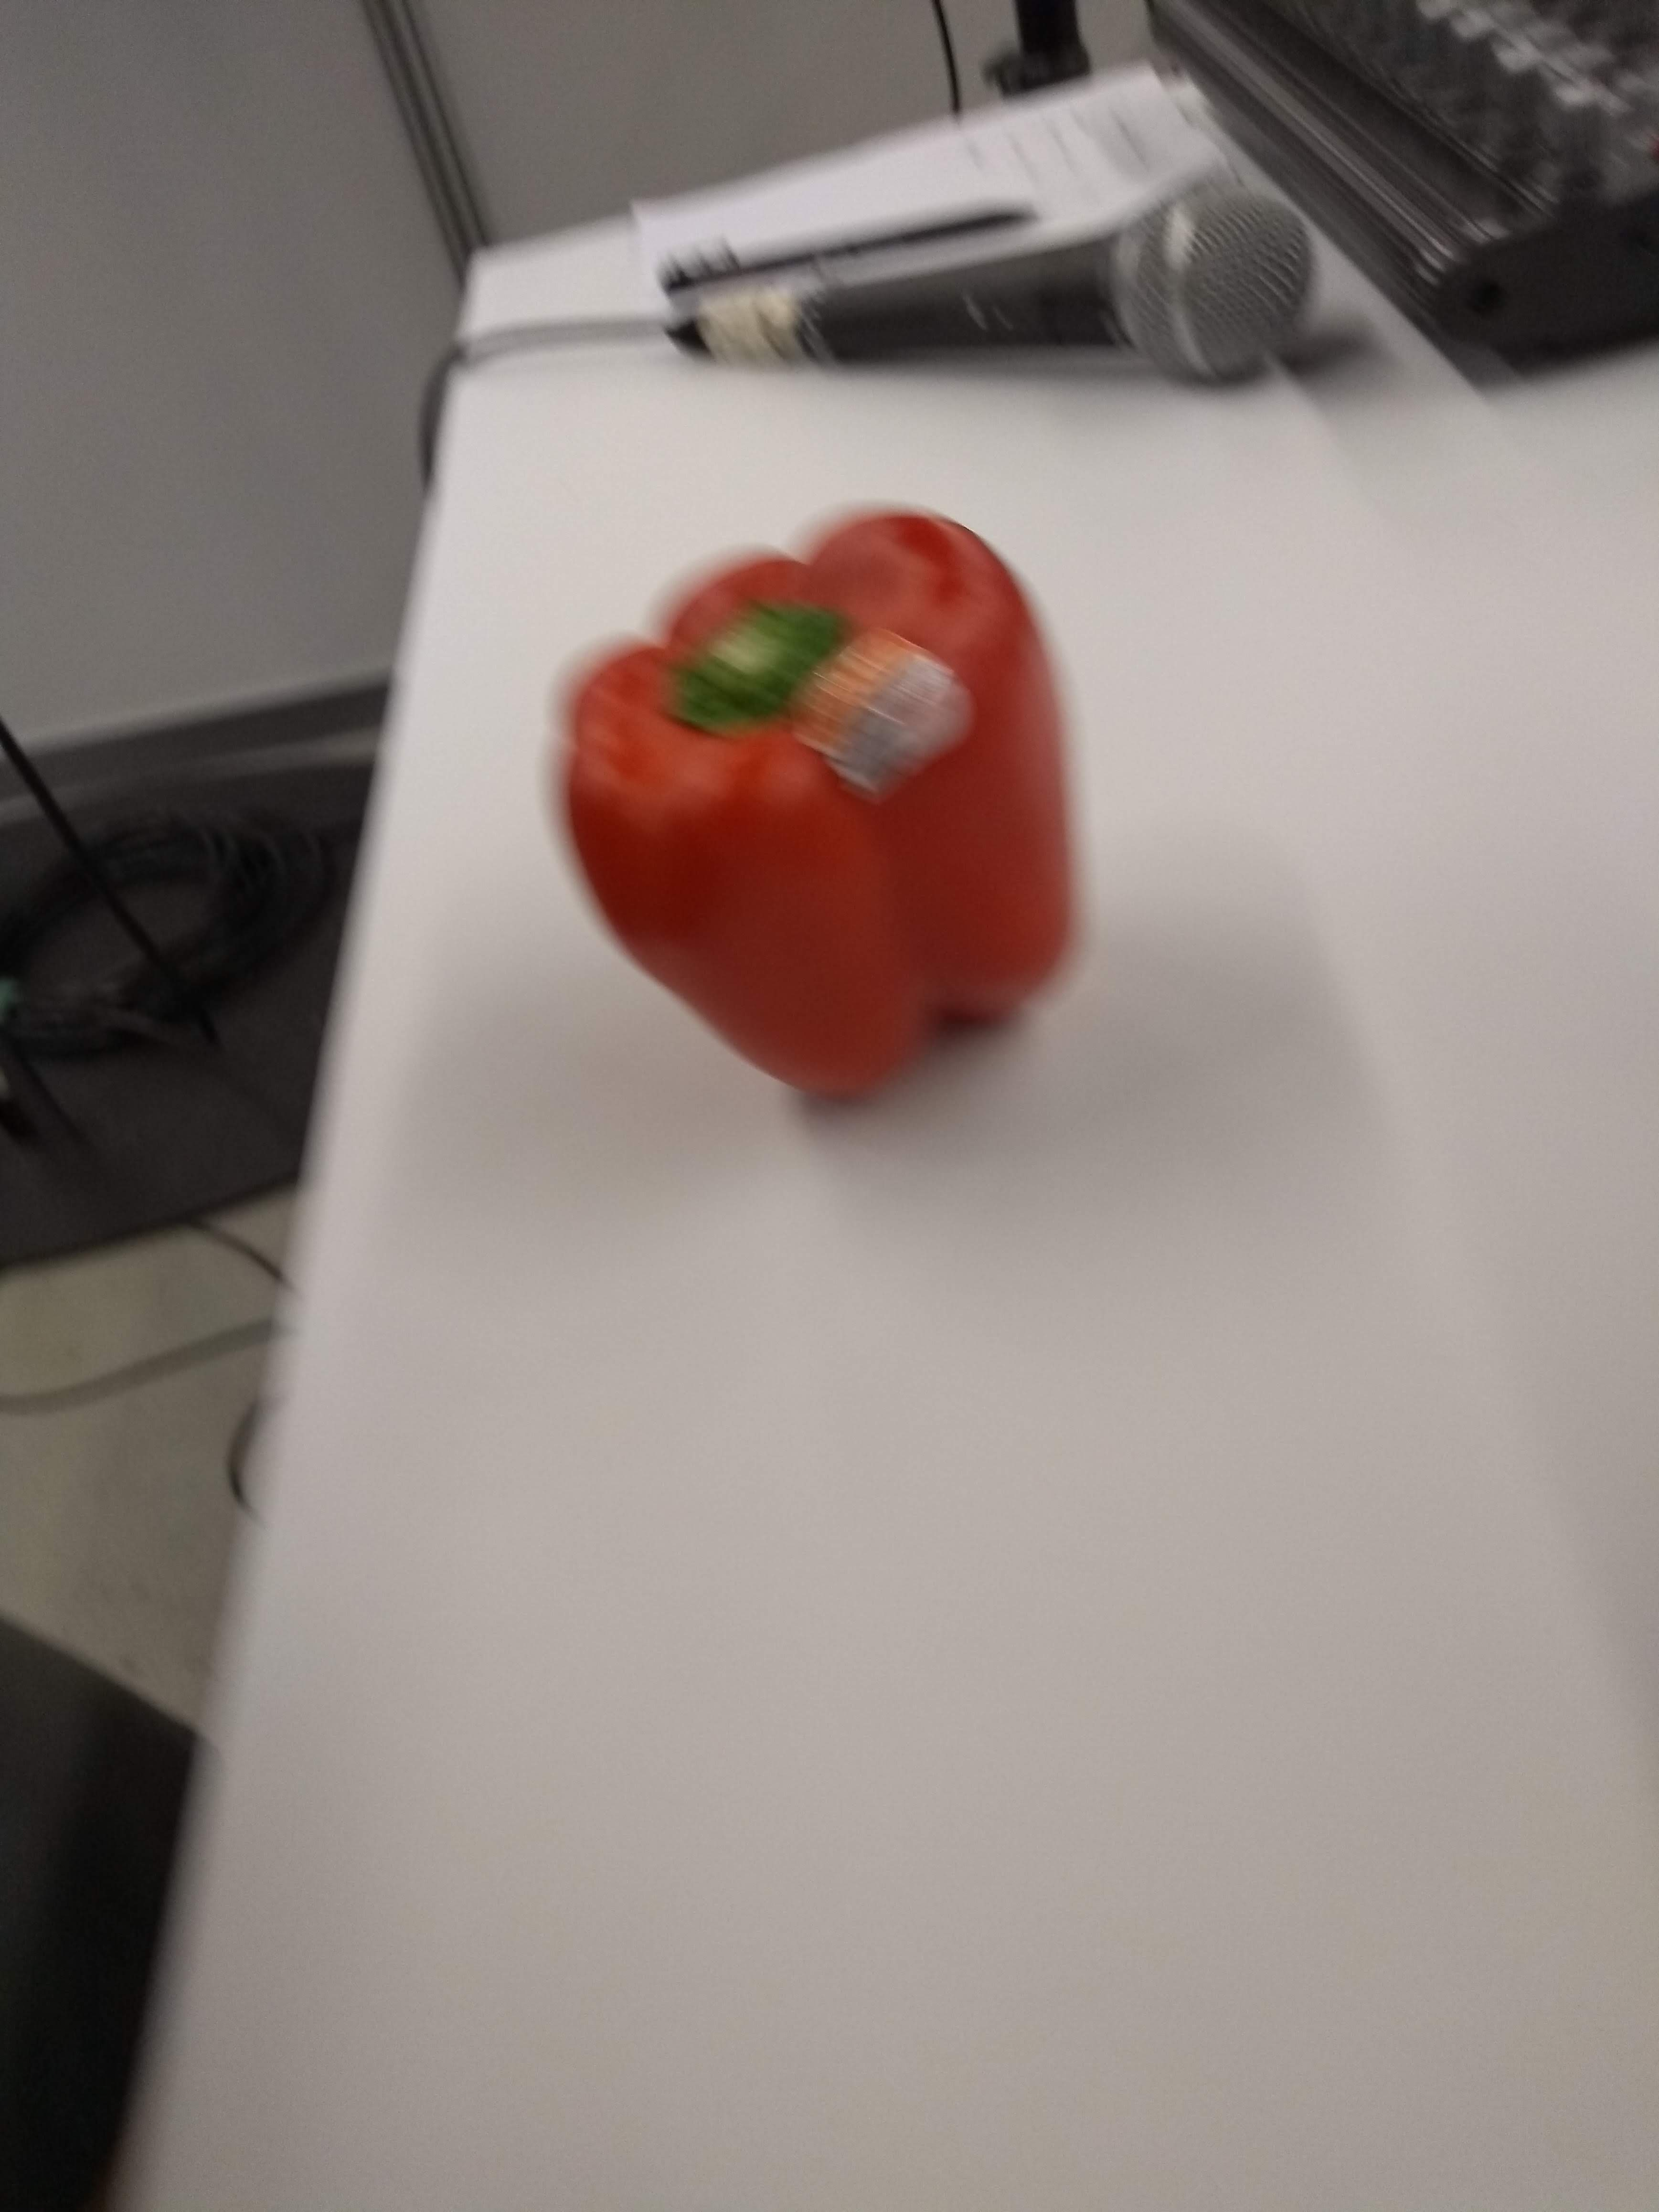paprika: (525, 486, 1103, 1118)
